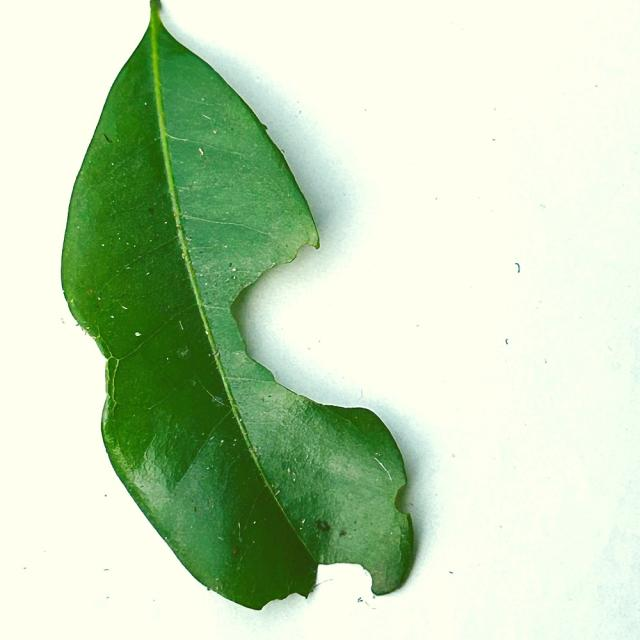Deficiency Leaf: (230, 237, 372, 408)
Lychee: (60, 0, 419, 612)
